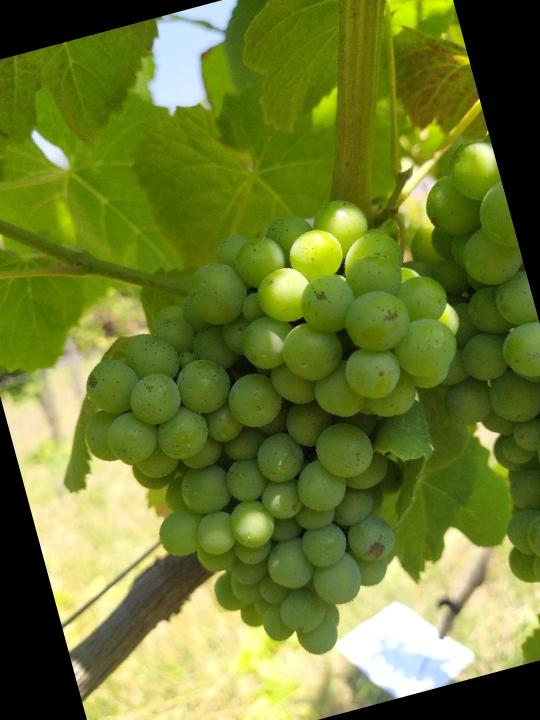grape: (45, 174, 538, 699)
